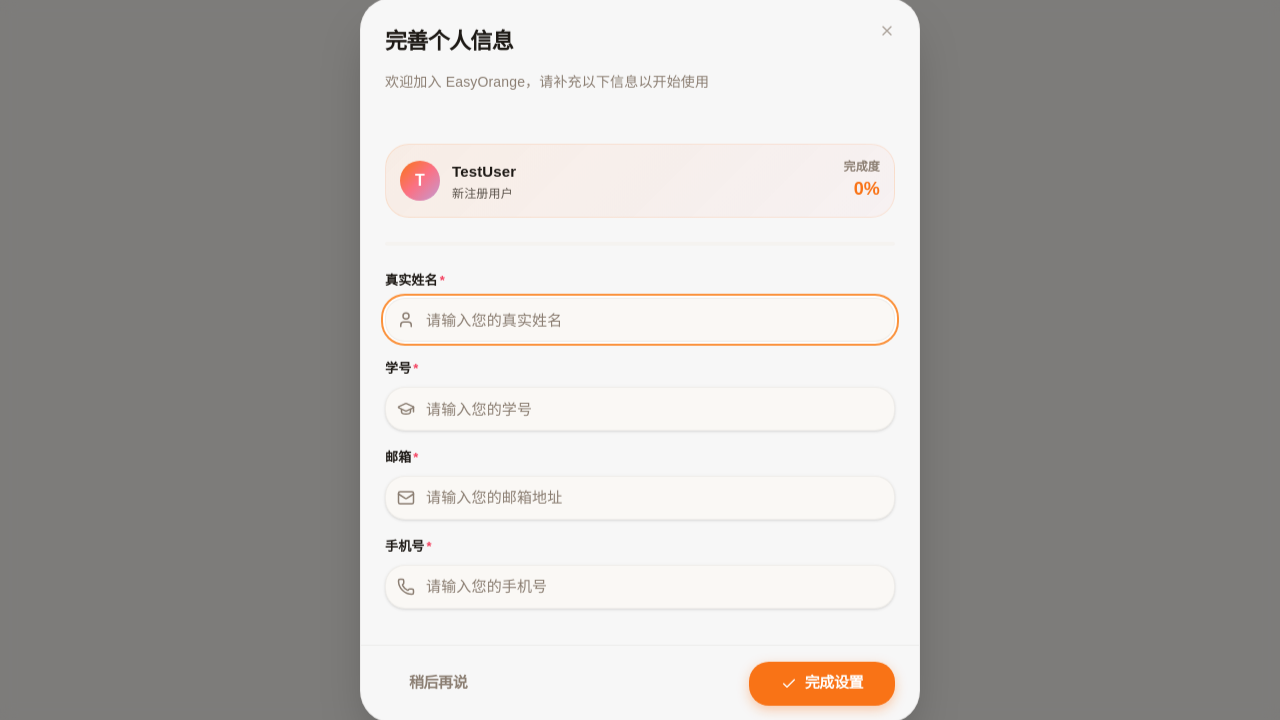
Test: ProfileSetupModal › shows validation error for invalid phone format
Type "123" into the field with placeholder "请输入您的手机号". click: x=640, y=586
box: [385,564,895,608]
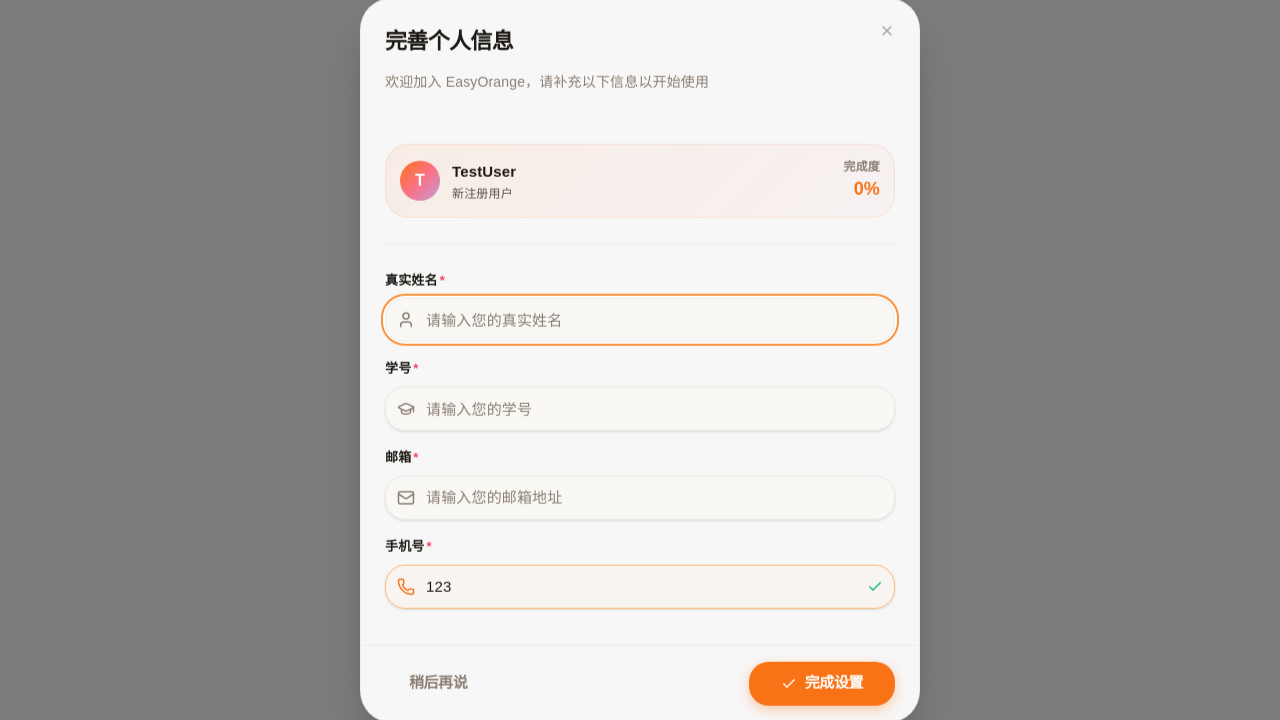
Leave the field with placeholder "请输入您的手机号", box [385,564,895,608]
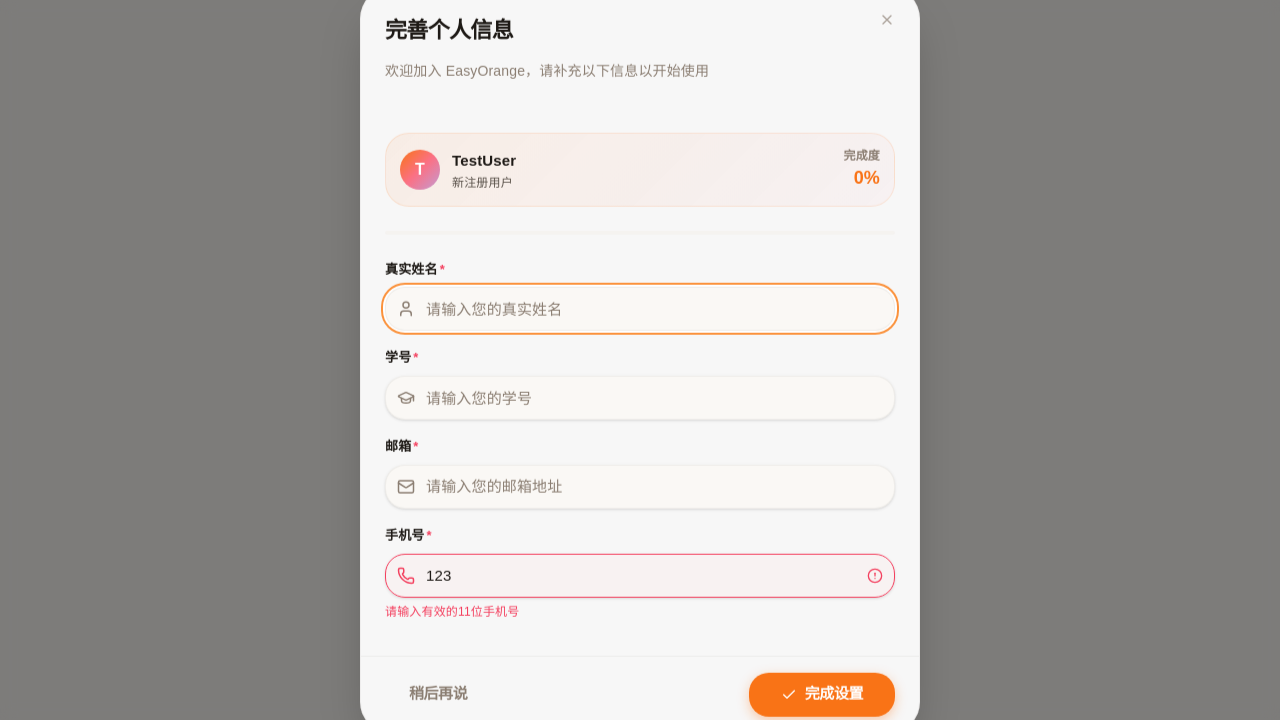
expect the text "请输入有效的11位手机号" is shown: met, box [385,604,519,618]
